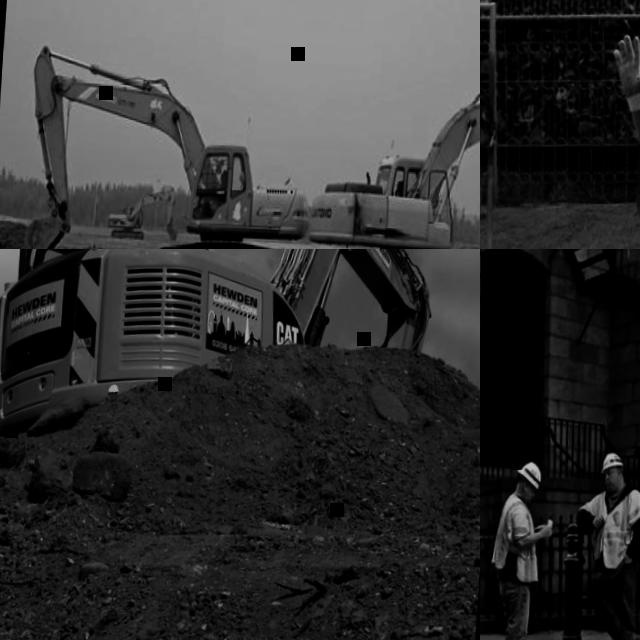Hardhat: (517, 463, 543, 490), (602, 453, 625, 474)
NO-Mask: (607, 476, 623, 491), (522, 488, 534, 504)
Person: (580, 0, 640, 249), (567, 451, 640, 640), (484, 460, 558, 640), (218, 171, 229, 193), (396, 183, 404, 199)
Safety Vest: (493, 494, 546, 583), (594, 490, 639, 571)
machinery: (0, 249, 442, 473), (17, 44, 320, 249), (309, 41, 480, 249), (107, 185, 182, 243)
